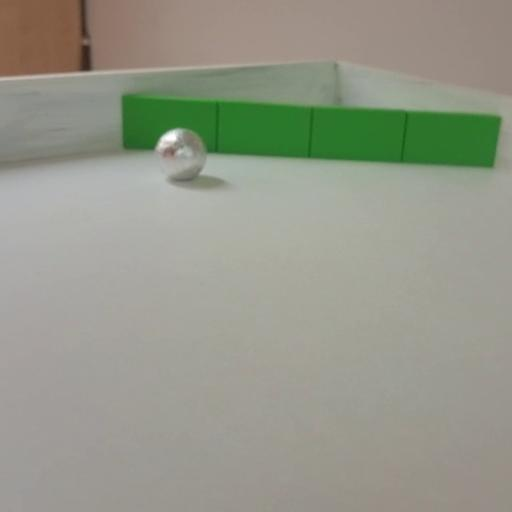alive: (154, 128, 206, 180)
